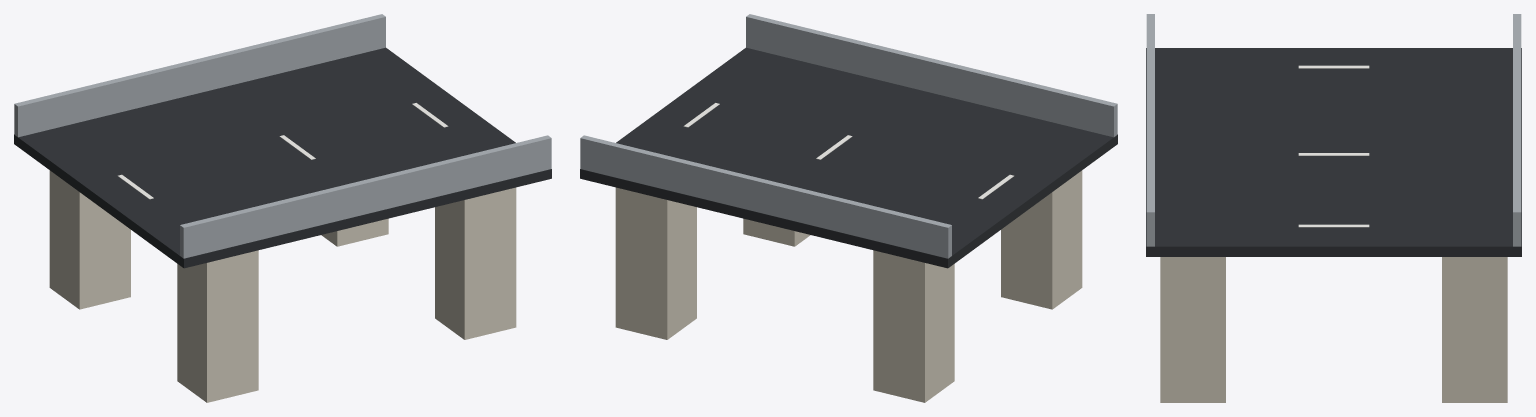
The model's file is road.viaduct-elevated.glb.
3 renders of one model, left to right at view 1: azimuth 30°, elevation 25°; view 2: azimuth 150°, elevation 25°; view 3: azimuth 270°, elevation 25°, orthographic. The views are drawn at different scales.
Parts seen in each view (by area): view 1: road.viaduct-elevated; view 2: road.viaduct-elevated; view 3: road.viaduct-elevated.
Boxes of the visible parts, box(x1,y1,x2,y2) form: road.viaduct-elevated: box(14, 14, 551, 402); road.viaduct-elevated: box(580, 14, 1117, 402); road.viaduct-elevated: box(1146, 14, 1521, 402).
Bounding box in the file's own units: 10 × 4.85 × 8.
